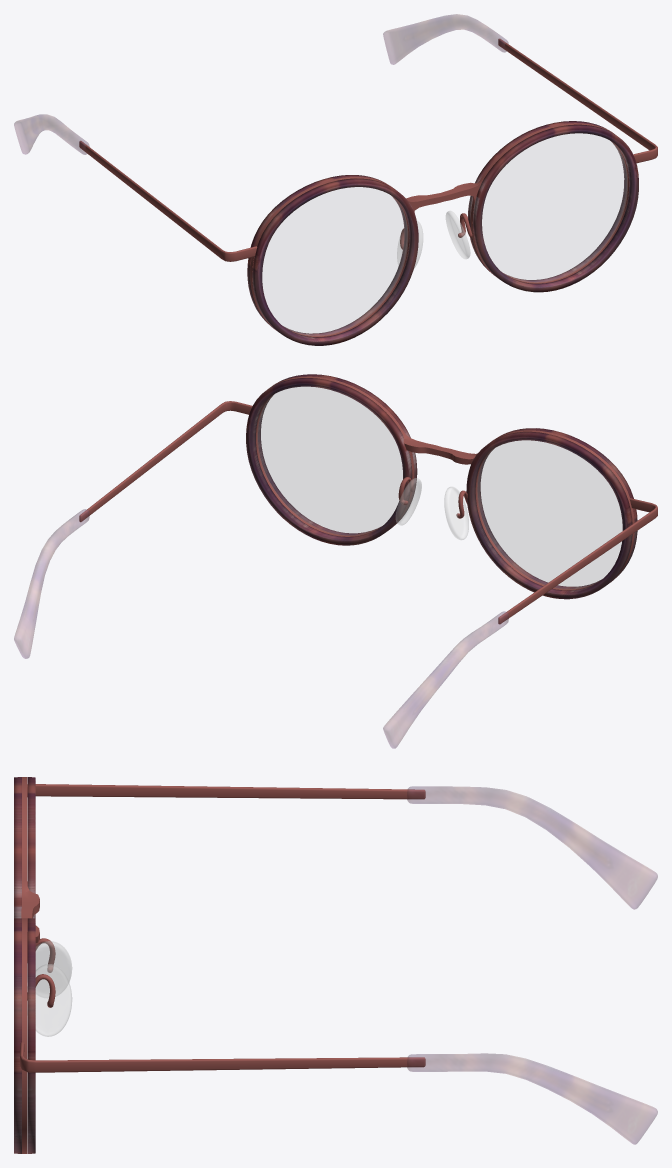
Rendered from variant-12.glb.
The picture shows the model from 3 angles, top to bottom: view 1: azimuth 30°, elevation 25°; view 2: azimuth 150°, elevation 25°; view 3: azimuth 270°, elevation 25°; orthographic projection. The views are drawn at different scales.
Parts seen in each view (by area): view 1: Circle.011, Circle.010, monture.011, Circle.009; view 2: Circle.011, Circle.010, monture.011, Circle.009; view 3: monture.011, Circle.010, Circle.009.
Part boxes in pixels (x1,y1,x2,y2): Circle.011: (262,133,627,335); Circle.010: (247,121,638,345); monture.011: (14,14,657,261); Circle.009: (250,123,629,337); Circle.011: (257,387,622,589); Circle.010: (246,374,637,599); monture.011: (14,401,657,748); Circle.009: (256,376,634,590); monture.011: (20,784,657,1144); Circle.010: (14,777,72,1153); Circle.009: (21,777,39,1153).
Bounding box in the file's own units: 2.14 × 0.7529 × 2.09.
5 materials, 2 textured.
